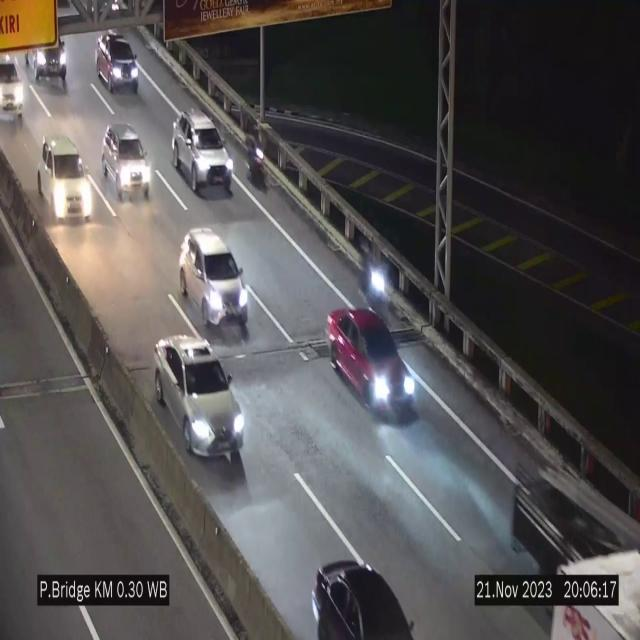Car: (153, 335, 244, 458), (309, 554, 439, 640), (329, 308, 415, 418), (179, 227, 249, 333), (31, 133, 95, 223), (172, 112, 234, 196), (103, 122, 154, 202), (24, 11, 75, 89), (0, 45, 32, 127), (96, 31, 138, 93)
Motorcycle: (360, 243, 388, 319), (243, 122, 270, 194)
Truck: (505, 430, 640, 590), (546, 532, 640, 640)
